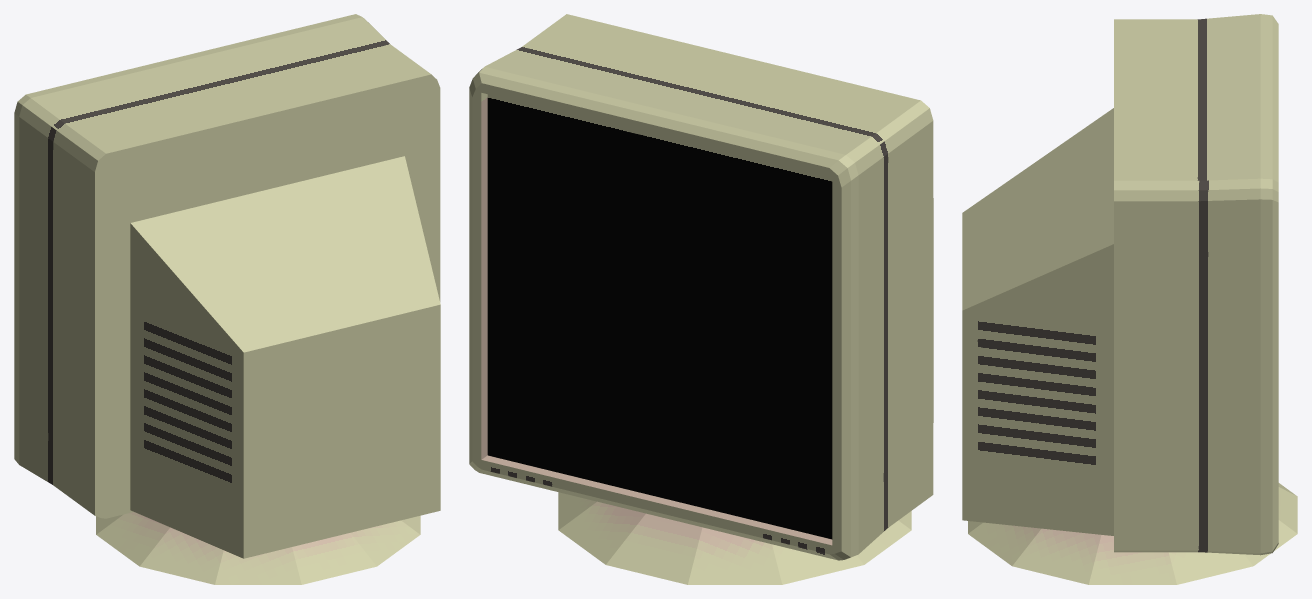
File: old pc.gltf
3 renders of one model, left to right at view 1: azimuth 30°, elevation 25°; view 2: azimuth 150°, elevation 25°; view 3: azimuth 270°, elevation 25°, orthographic. The views are drawn at different scales.
Parts seen in each view (by area): view 1: cuboid, cone; view 2: cuboid, cone; view 3: cuboid, cone.
Part boxes in pixels (left/top/right/bottom): cuboid: left=14, top=14, right=440, bottom=558; cone: left=96, top=512, right=420, bottom=584; cuboid: left=469, top=14, right=933, bottom=560; cone: left=558, top=492, right=911, bottom=584; cuboid: left=962, top=14, right=1278, bottom=555; cone: left=968, top=483, right=1297, bottom=584.
Bounding box in the file's own units: 1.36 × 1.53 × 1.11.
Materials: 1 (1 with a texture image).
